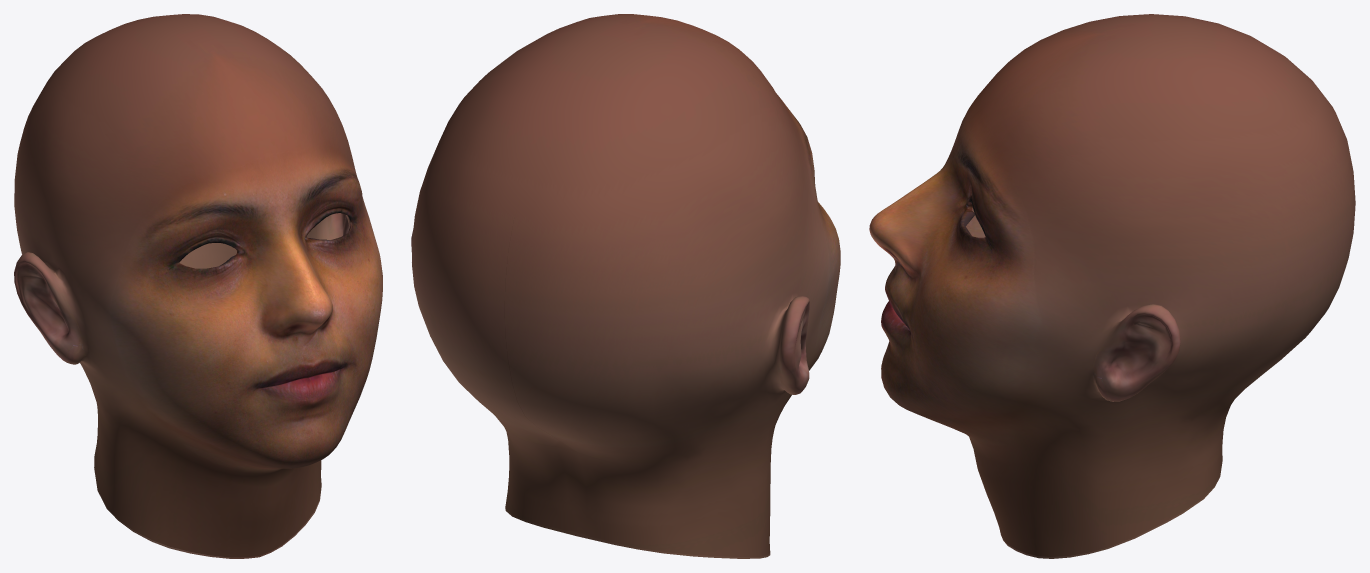
3 renders of one model, left to right at view 1: azimuth 30°, elevation 25°; view 2: azimuth 150°, elevation 25°; view 3: azimuth 270°, elevation 25°, orthographic. The views are drawn at different scales.
Parts seen in each view (by area): view 1: FaceGen; view 2: FaceGen; view 3: FaceGen.
Part boxes in pixels (x1,y1,x2,y2): FaceGen: (14,14,382,558); FaceGen: (411,14,840,558); FaceGen: (869,14,1355,558).
Size of the model in its own units: 206 by 282 by 245.
1 material, 1 textured.
